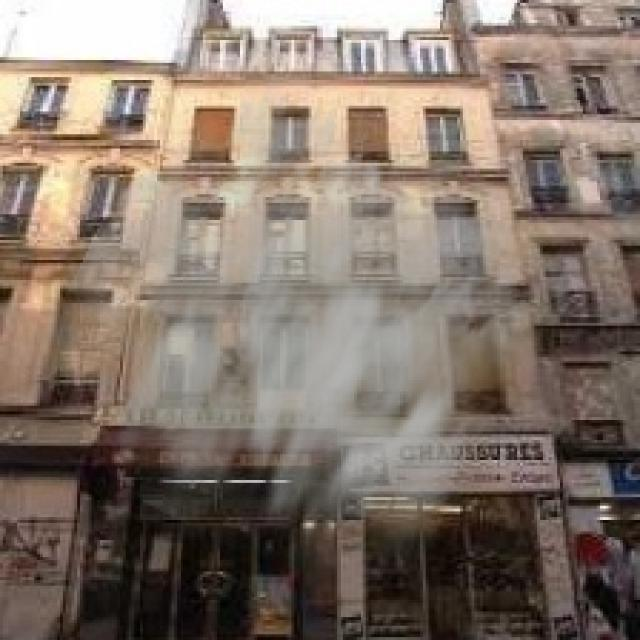Smoke: (42, 68, 558, 634)
